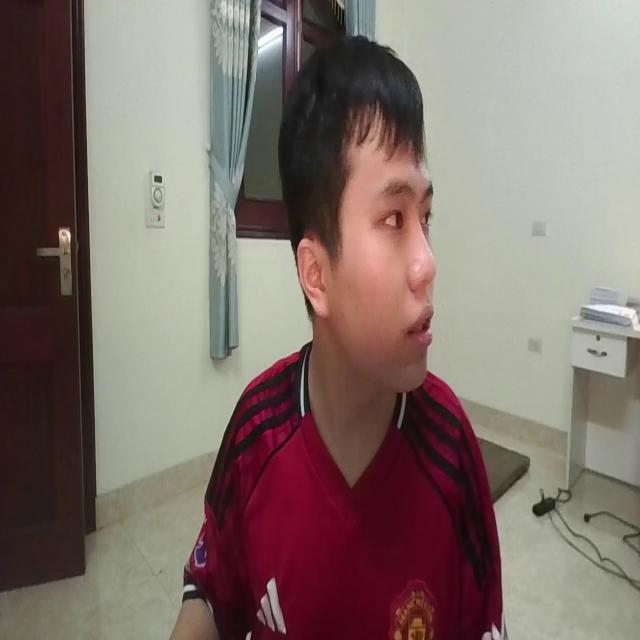student: (136, 31, 507, 640)
